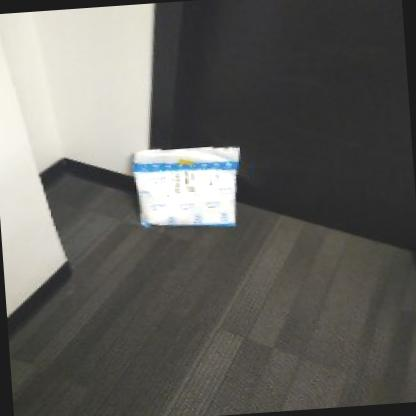plastic_bag: (130, 145, 243, 230)
